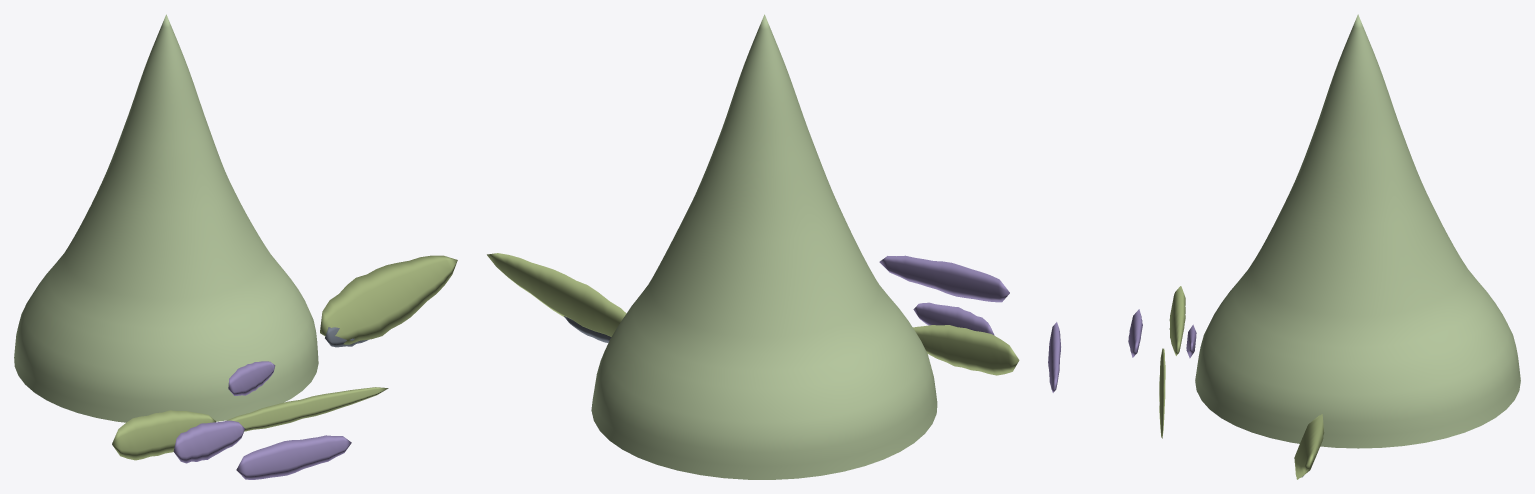
Rendered from NPR_07_2061__MOD__VegetationElements__Topiary__ConeBush__Var-01__.glb.
3 renders of one model, left to right at view 1: azimuth 30°, elevation 25°; view 2: azimuth 150°, elevation 25°; view 3: azimuth 270°, elevation 25°, orthographic. The views are drawn at different scales.
Visible parts, largest first — view 1: NPR_07_2061__MOD__VegetationElements__Topiary__ConeBush__Var; view 2: NPR_07_2061__MOD__VegetationElements__Topiary__ConeBush__Var; view 3: NPR_07_2061__MOD__VegetationElements__Topiary__ConeBush__Var.
Part boxes in pixels (box(x1,y1,x2,y2)): NPR_07_2061__MOD__VegetationElements__Topiary__ConeBush__Var: box(14, 14, 457, 479); NPR_07_2061__MOD__VegetationElements__Topiary__ConeBush__Var: box(487, 14, 1019, 479); NPR_07_2061__MOD__VegetationElements__Topiary__ConeBush__Var: box(1048, 14, 1520, 479).
Size of the model in its own units: 1.91 by 1.59 by 1.81.
